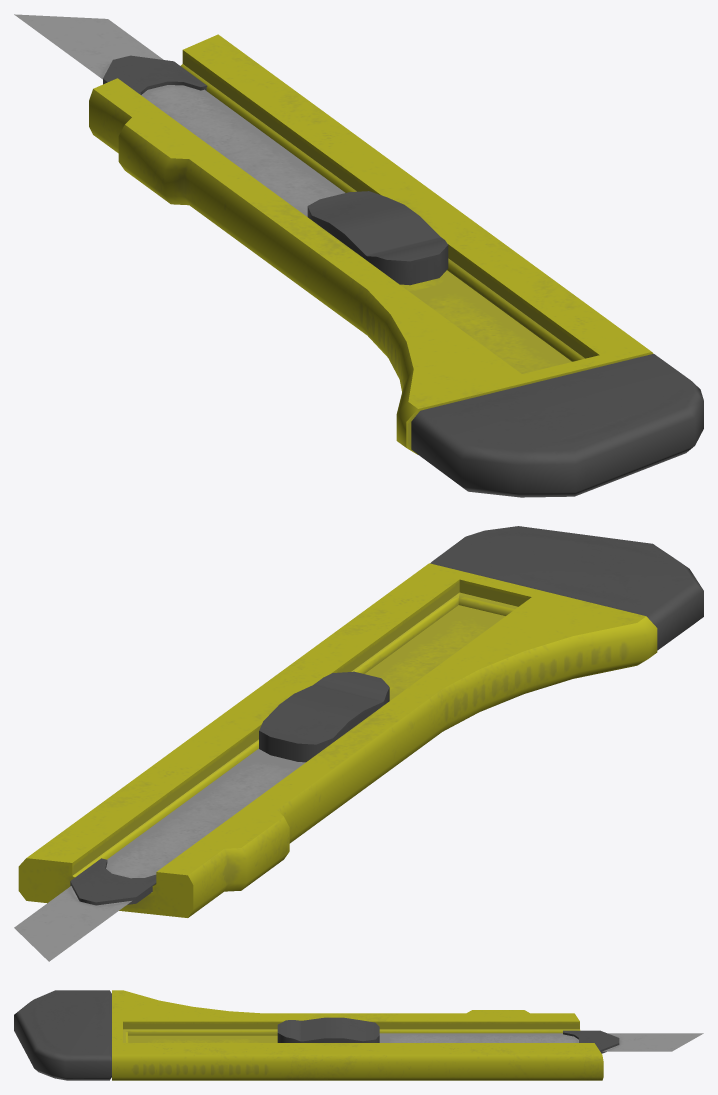
File: cutter.fbx
3 renders of one model, top to bottom at view 1: azimuth 30°, elevation 25°; view 2: azimuth 150°, elevation 25°; view 3: azimuth 270°, elevation 25°, orthographic. The views are drawn at different scales.
Parts seen in each view (by area): view 1: knife_Tools_0; view 2: knife_Tools_0; view 3: knife_Tools_0.
Boxes of the visible parts, x1=… form: knife_Tools_0: x1=14, y1=14, x2=703, y2=497; knife_Tools_0: x1=14, y1=526, x2=703, y2=961; knife_Tools_0: x1=14, y1=990, x2=703, y2=1080.
Size of the model in its own units: 541 by 111 by 2259.
Materials: 1 (1 with a texture image).
